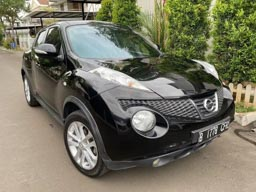plat: (198, 119, 229, 145)
